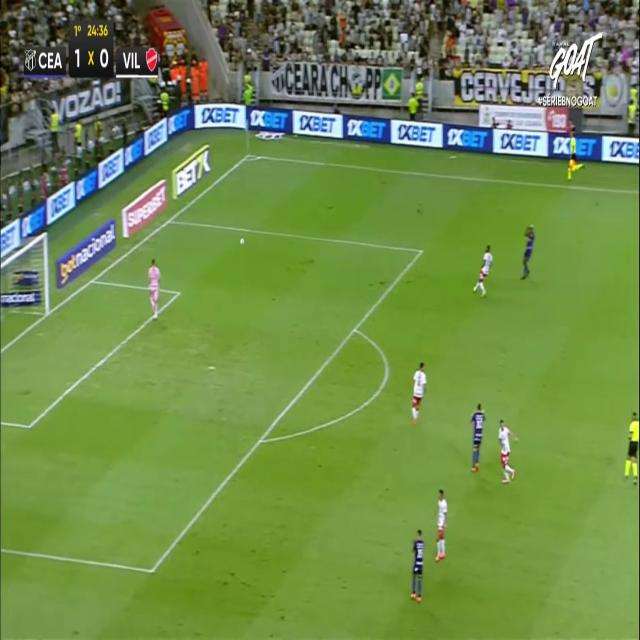ball: (238, 235, 245, 246)
goalkeeper: (147, 258, 160, 319)
player: (498, 419, 518, 482), (472, 244, 493, 296), (470, 402, 485, 471), (411, 360, 427, 423), (411, 528, 424, 601), (434, 487, 447, 560), (521, 223, 534, 278)
referee: (624, 410, 640, 481), (567, 137, 582, 181)
